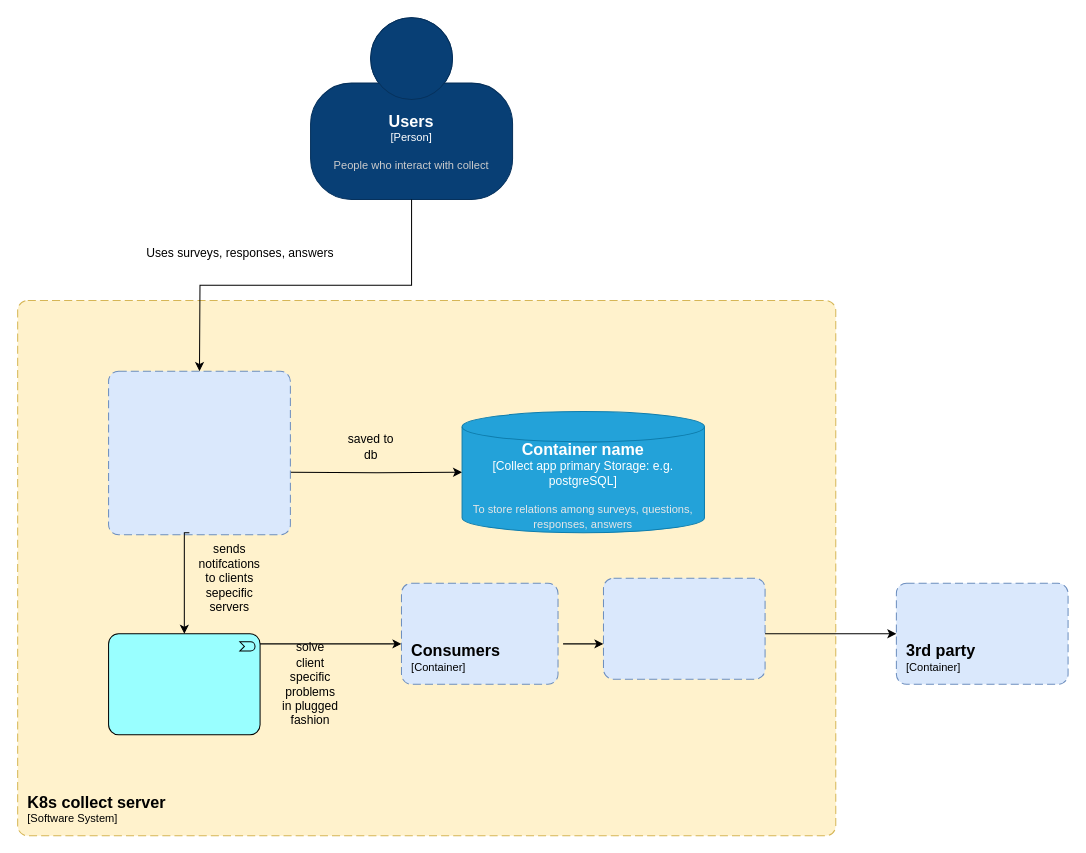
Some shapes in this 1086 by 853 pixel diagram are drawn without their labels. Here are the shapes that lost their labels. From the top down, the centre of each, then its label:
At point 199,452: "Collect API server [Container]".
At point 683,628: "Peripherals [Container]".
At point 184,684: "Events".
